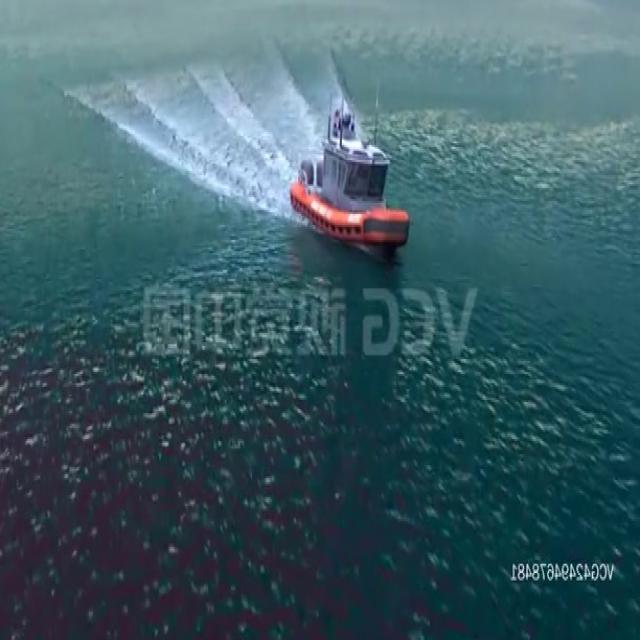houseboat: (290, 98, 416, 251)
